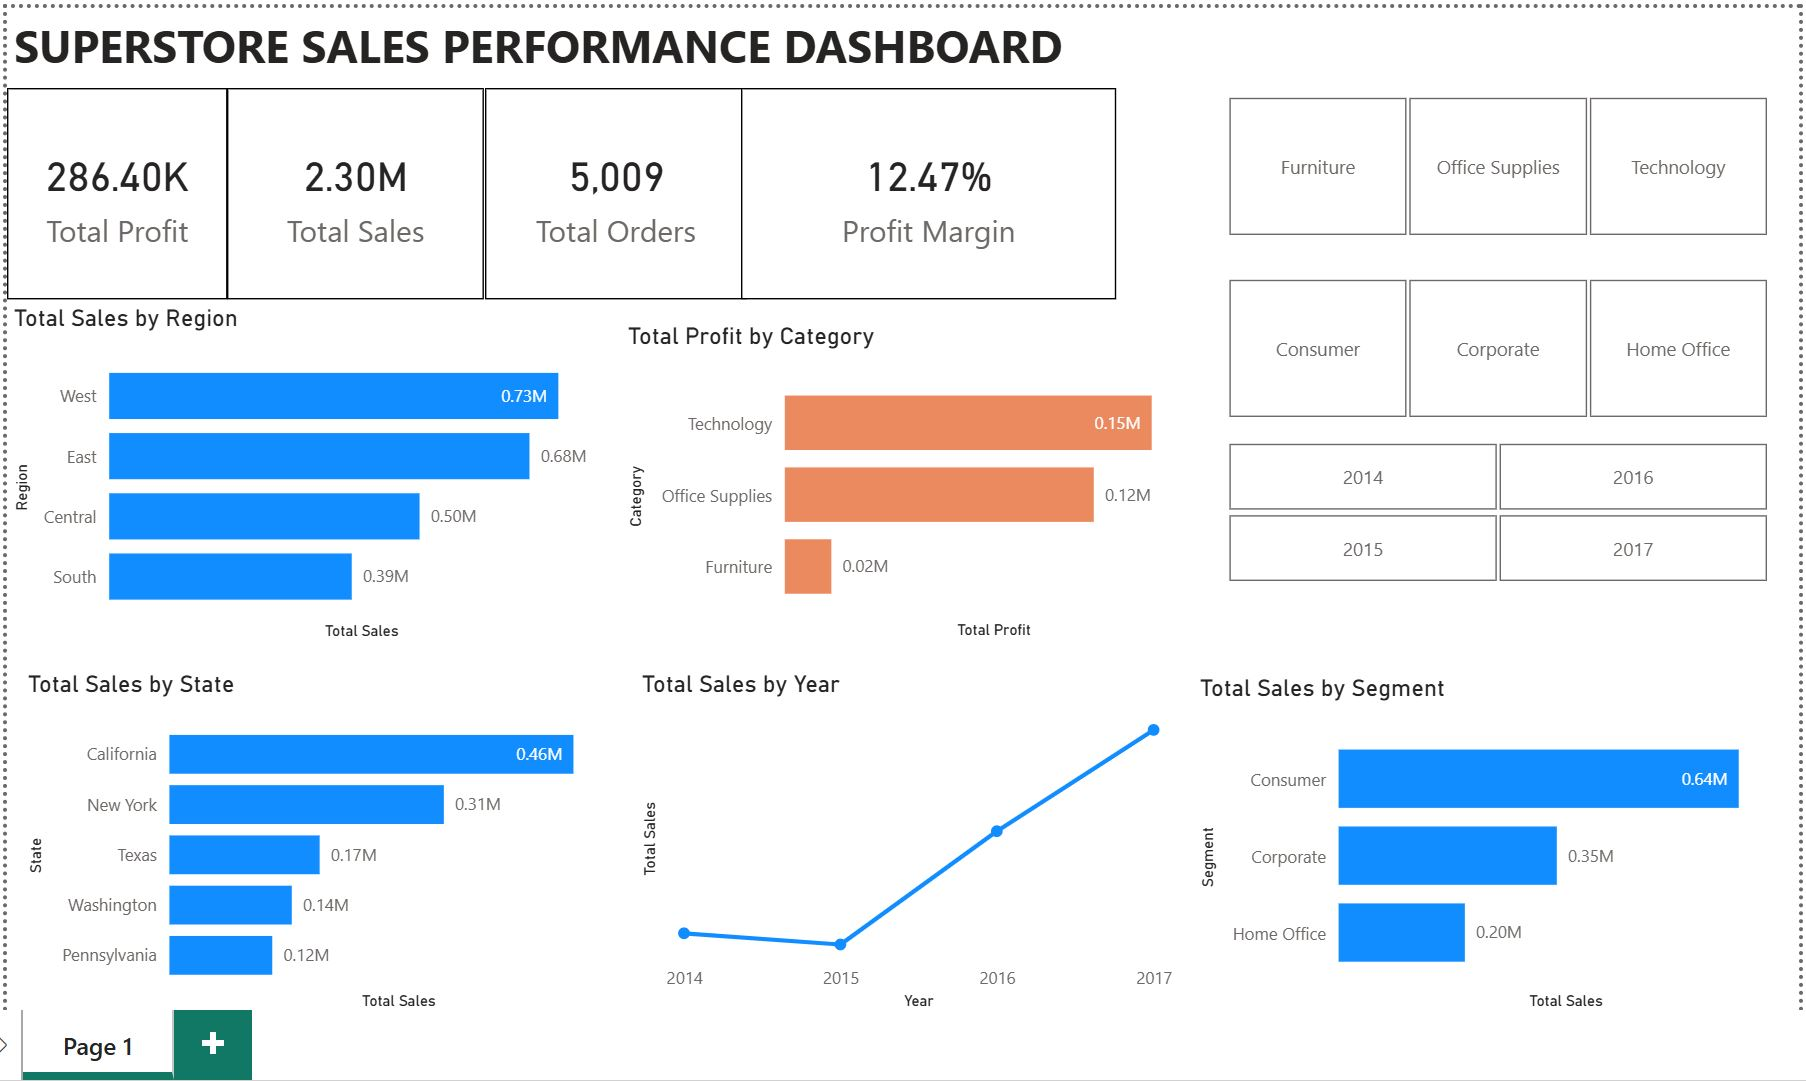

The dashboard page shown, as its layout file describes it:
{"tool":"powerbi","page":{"name":"Page 1","canvas":[1280,720],"ordinal":0},"visuals":[{"type":"card","fields":{"Values":["Orders.Total Profit"]},"box":[0,56.9,157.7,151.2],"z":0,"group":"g1"},{"type":"card","fields":{"Values":["Orders.Total Sales"]},"box":[157.7,56.9,183.7,151.2],"z":1000,"group":"g1"},{"type":"card","fields":{"Values":["Orders.Total Orders"]},"box":[341.3,56.9,186.9,151.2],"z":2000,"group":"g1"},{"type":"card","fields":{"Values":["Orders.Profit Margin"]},"box":[525,56.9,268.2,151.2],"z":3000,"group":"g1"},{"type":"barChart","fields":{"Category":["Geography.Region"],"Y":["Orders.Total Sales"]},"box":[0,211.3,438.8,243.8],"z":4000,"group":"g3"},{"type":"barChart","fields":{"Category":["Products.Category"],"Y":["Orders.Total Profit"]},"box":[438.8,224.3,420.9,230.8],"z":5000,"group":"g3"},{"type":"barChart","fields":{"Category":["Geography.State"],"Y":["Orders.Total Sales"]},"box":[9.8,473,438.8,247],"z":6000,"group":"g4"},{"type":"barChart","fields":{"Category":["Customers.Segment"],"Y":["Orders.Total Sales"]},"box":[846.8,476.3,434,243.8],"z":7000,"group":"g4"},{"type":"lineChart","fields":{"Category":["Orders.Order Date.Variation.Date Hierarchy.Year","Orders.Order Date.Variation.Date Hierarchy.Quarter","Orders.Order Date.Variation.Date Hierarchy.Month","Orders.Order Date.Variation.Date Hierarchy.Day"],"Y":["Orders.Total Sales"]},"box":[448.6,473,388.4,247],"z":8000,"group":"g4"},{"type":"slicer","fields":{"Values":["Products.Category"]},"box":[846.8,56.9,435.6,112.1],"z":9000},{"type":"textbox","box":[0,0,837,56.9],"z":10000,"group":"g1"},{"type":"slicer","fields":{"Values":["Customers.Segment"]},"box":[846.8,186.9,434,112.1],"z":11000,"group":"g2"},{"type":"slicer","fields":{"Values":["Products.Category"]},"box":[846.8,56.9,434,112.1],"z":12000,"group":"g2"},{"type":"slicer","fields":{"Values":["Orders.Order Date.Variation.Date Hierarchy.Year"]},"box":[846.8,303.9,434,112.1],"z":13000,"group":"g2"},{"type":"group","id":"g1","title":"Group 1","box":[0,0,837,208],"z":13001},{"type":"group","id":"g2","title":"Group 2","box":[846.8,56.9,434,359.2],"z":13002},{"type":"group","id":"g3","title":"Group 3","box":[0,211.3,859.8,243.8],"z":13003},{"type":"group","id":"g4","title":"Group 4","box":[9.8,473,1271,247],"z":13004}]}

Visuals, with their boxes on the page's 1280x720 design canvas (x1, y1, x2, y2). These are canvas units, not pixel positions in the 1806x1081 screenshot, which may show the page scaled, cropped or inside an application window:
card - Orders.Total Profit: Rect(0, 57, 158, 208)
card - Orders.Total Sales: Rect(158, 57, 341, 208)
card - Orders.Total Orders: Rect(341, 57, 528, 208)
card - Orders.Profit Margin: Rect(525, 57, 793, 208)
barChart - Geography.Region x Orders.Total Sales: Rect(0, 211, 439, 455)
barChart - Products.Category x Orders.Total Profit: Rect(439, 224, 860, 455)
barChart - Geography.State x Orders.Total Sales: Rect(10, 473, 449, 720)
barChart - Customers.Segment x Orders.Total Sales: Rect(847, 476, 1281, 720)
lineChart - Orders.Order Date.Variation.Date Hierarchy.Year x Orders.Order Date.Variation.Date Hierarchy.Quarter: Rect(449, 473, 837, 720)
slicer - Products.Category: Rect(847, 57, 1282, 169)
textbox: Rect(0, 0, 837, 57)
slicer - Customers.Segment: Rect(847, 187, 1281, 299)
slicer - Products.Category: Rect(847, 57, 1281, 169)
slicer - Orders.Order Date.Variation.Date Hierarchy.Year: Rect(847, 304, 1281, 416)
"Group 1" group: Rect(0, 0, 837, 208)
"Group 2" group: Rect(847, 57, 1281, 416)
"Group 3" group: Rect(0, 211, 860, 455)
"Group 4" group: Rect(10, 473, 1281, 720)
